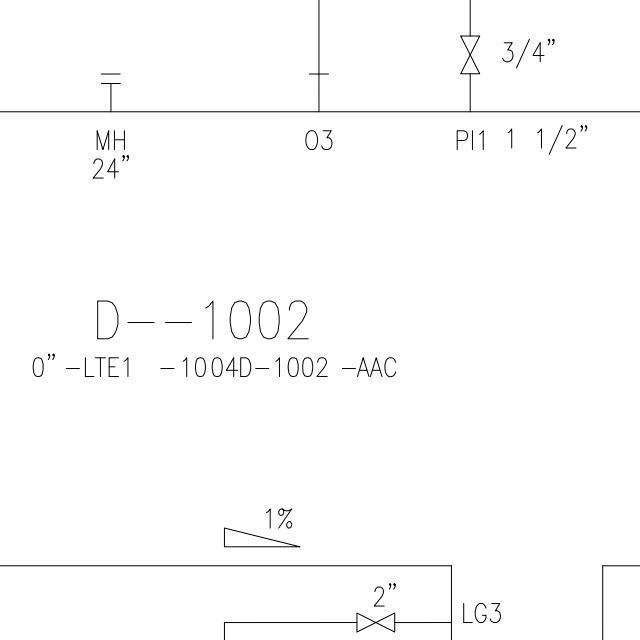GV: (456, 29, 484, 82), (349, 609, 401, 635)
